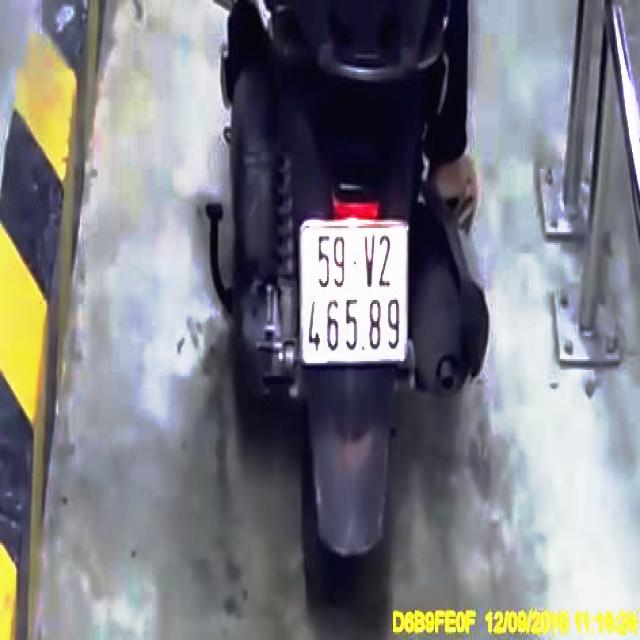license_plate: (301, 225, 407, 364)
